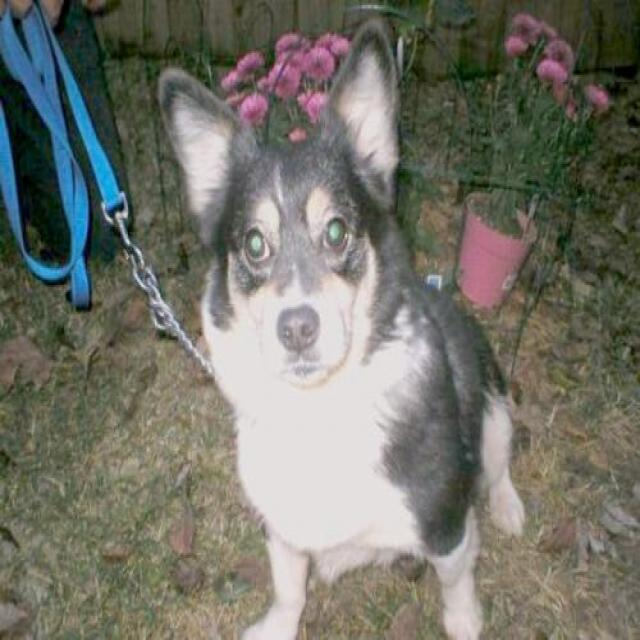dogs: (158, 19, 529, 640)
